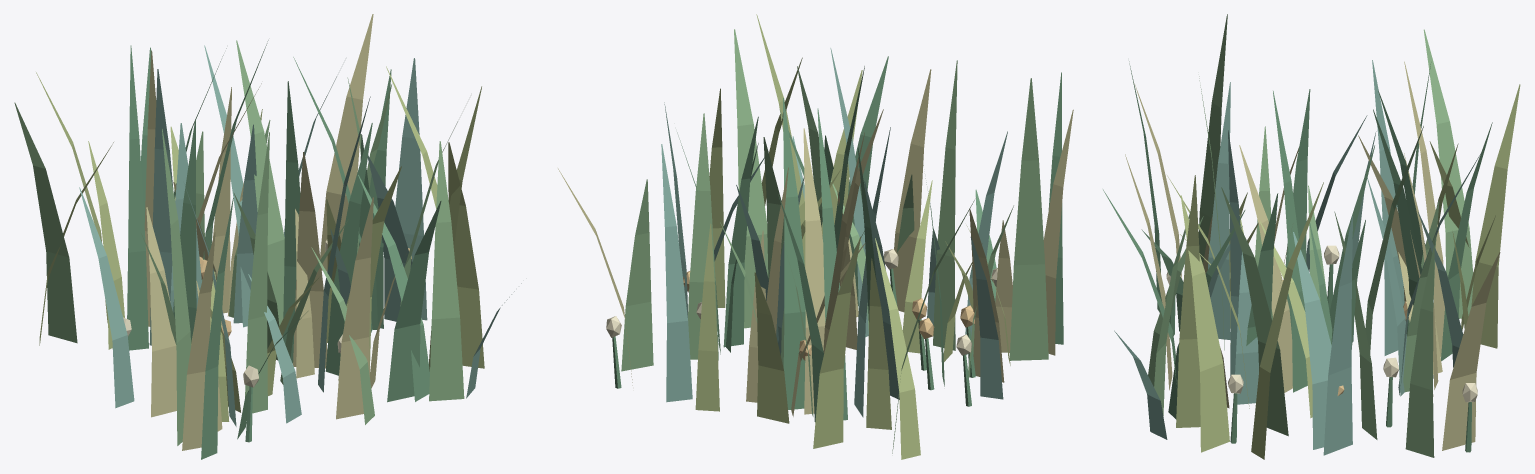
File: grass_tall_patch.glb
The picture shows the model from 3 angles, left to right: view 1: azimuth 30°, elevation 25°; view 2: azimuth 150°, elevation 25°; view 3: azimuth 270°, elevation 25°; orthographic projection. The views are drawn at different scales.
Parts seen in each view (by area): view 1: grass_tall_patch_grass_dark, grass_tall_patch_grass, grass_tall_patch_grass_gold, grass_tall_patch_grass_blue, grass_tall_patch_grass_lime; view 2: grass_tall_patch_grass, grass_tall_patch_grass_lime, grass_tall_patch_grass_dark, grass_tall_patch_grass_gold, grass_tall_patch_grass_blue, grass_tall_patch_flower_gold, grass_tall_patch_flower; view 3: grass_tall_patch_grass_blue, grass_tall_patch_grass, grass_tall_patch_grass_lime, grass_tall_patch_grass_dark, grass_tall_patch_grass_gold, grass_tall_patch_flower.
Part boxes in pixels (x1,y1,x2,y2): grass_tall_patch_grass_dark: [127, 40, 441, 459]; grass_tall_patch_grass: [14, 40, 464, 445]; grass_tall_patch_grass_gold: [144, 14, 406, 450]; grass_tall_patch_grass_blue: [79, 45, 521, 426]; grass_tall_patch_grass_lime: [36, 66, 484, 421]; grass_tall_patch_grass: [621, 29, 1048, 453]; grass_tall_patch_grass_lime: [695, 14, 1010, 459]; grass_tall_patch_grass_dark: [612, 56, 1063, 421]; grass_tall_patch_grass_gold: [558, 69, 1073, 416]; grass_tall_patch_grass_blue: [661, 48, 1007, 417]; grass_tall_patch_flower_gold: [683, 271, 974, 360]; grass_tall_patch_flower: [606, 249, 997, 355]; grass_tall_patch_grass_blue: [1114, 60, 1481, 455]; grass_tall_patch_grass: [1148, 14, 1473, 457]; grass_tall_patch_grass_lime: [1167, 84, 1520, 459]; grass_tall_patch_grass_dark: [1103, 61, 1492, 452]; grass_tall_patch_grass_gold: [1125, 61, 1500, 450]; grass_tall_patch_flower: [1166, 245, 1477, 402].
Bounding box in the file's own units: 1.99 × 1.46 × 1.88.
